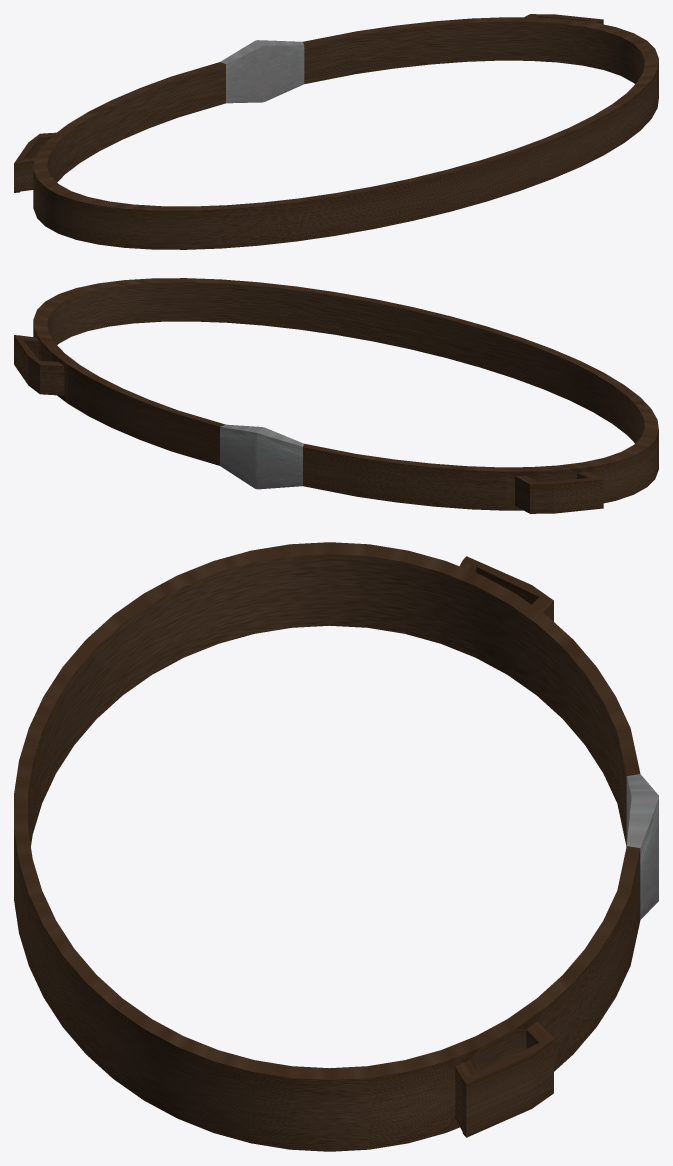
File: belt.FBX
The picture shows the model from 3 angles, top to bottom: view 1: azimuth 30°, elevation 25°; view 2: azimuth 150°, elevation 25°; view 3: azimuth 270°, elevation 25°; orthographic projection. The views are drawn at different scales.
Visible parts, largest first — view 1: Cylinder001; view 2: Cylinder001; view 3: Cylinder001.
Boxes of the visible parts, x1=… form: Cylinder001: x1=14, y1=14, x2=658, y2=249; Cylinder001: x1=14, y1=278, x2=658, y2=513; Cylinder001: x1=14, y1=542, x2=658, y2=1151.
Size of the model in its own units: 73.68 by 6.58 by 37.34.
1 material, 1 textured.
